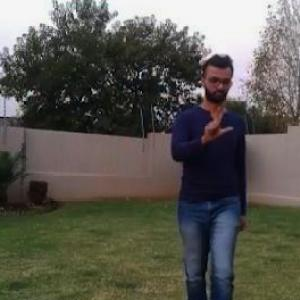land_hand: (194, 108, 236, 150)
